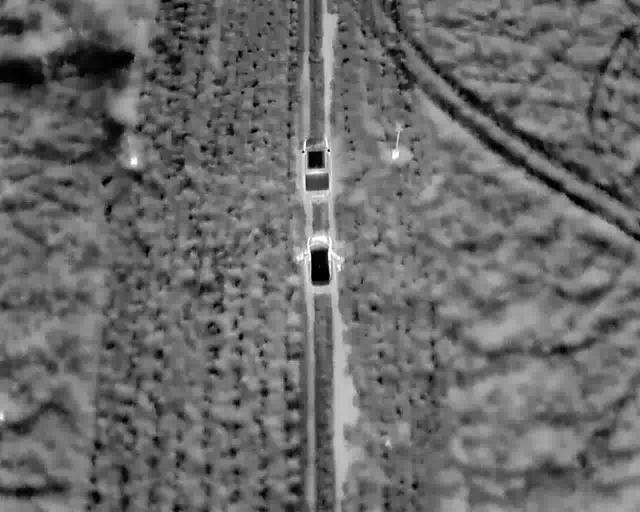car: (300, 135, 332, 194), (303, 233, 336, 287)
person: (333, 253, 345, 274), (297, 246, 308, 268)
